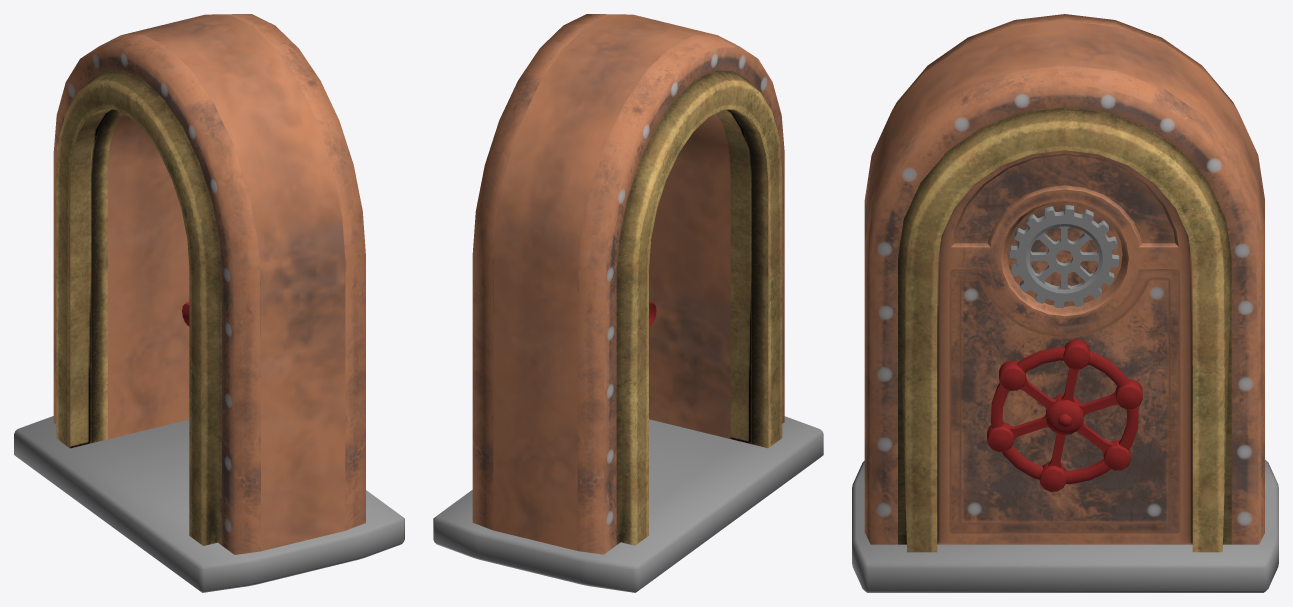
Rendered from door.FBX.
3 views of the same model, side by side, from view 1: azimuth 30°, elevation 25°; view 2: azimuth 150°, elevation 25°; view 3: azimuth 270°, elevation 25° (orthographic). The views are drawn at different scales.
Parts seen in each view (by area): view 1: doorframe, door_ground; view 2: doorframe, door_ground; view 3: doorframe, door, door_ground, pipe_wheel_low, gearwheel_low001.
Boxes of the visible parts, x1=… form: doorframe: x1=53, y1=14, x2=365, y2=554; door_ground: x1=14, y1=416, x2=404, y2=592; doorframe: x1=472, y1=14, x2=784, y2=554; door_ground: x1=433, y1=416, x2=823, y2=592; doorframe: x1=864, y1=14, x2=1264, y2=552; door: x1=937, y1=150, x2=1192, y2=544; door_ground: x1=852, y1=459, x2=1278, y2=592; pipe_wheel_low: x1=987, y1=339, x2=1142, y2=491; gearwheel_low001: x1=1009, y1=205, x2=1119, y2=308.
Size of the model in its own units: 174 by 374 by 291.
